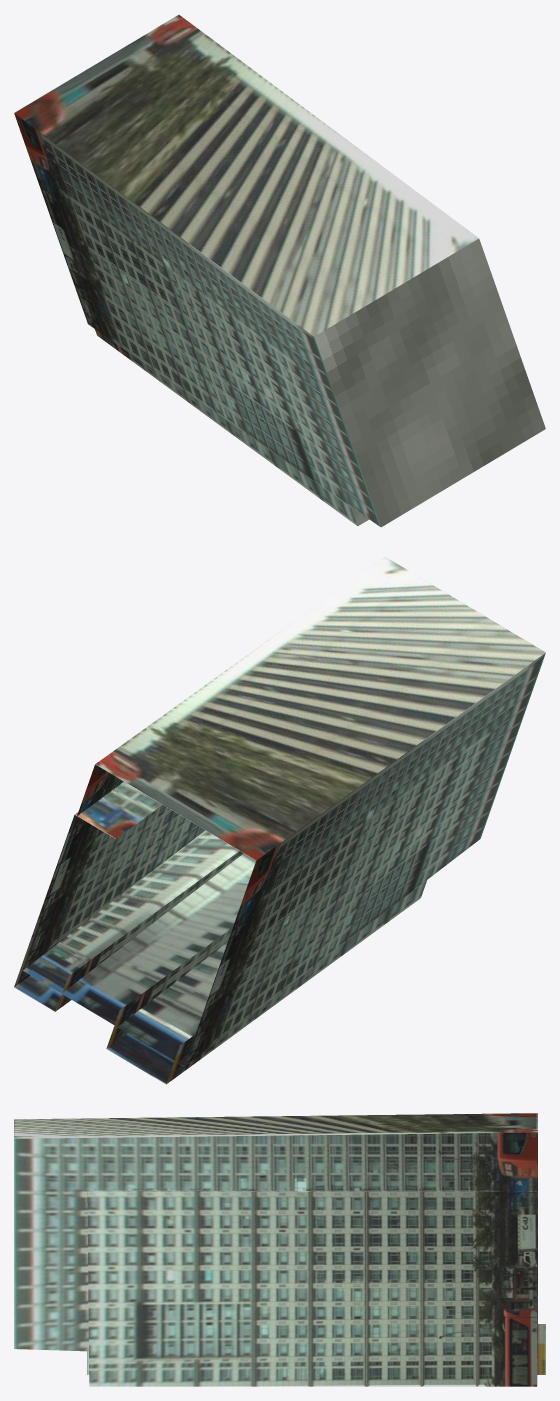
The picture shows the model from 3 angles, top to bottom: view 1: azimuth 30°, elevation 25°; view 2: azimuth 150°, elevation 25°; view 3: azimuth 270°, elevation 25°; orthographic projection. The views are drawn at different scales.
Parts seen in each view (by area): view 1: IndexedFaceSet__7_0, IndexedFaceSet__3_0, IndexedFaceSet__4_0, IndexedFaceSet__12_0; view 2: IndexedFaceSet__7_0, IndexedFaceSet__3_0, IndexedFaceSet__5_0, IndexedFaceSet__1_0, IndexedFaceSet__12_0, IndexedFaceSet__10_0, IndexedFaceSet__6_0, IndexedFaceSet__11_0, IndexedFaceSet__2_0, IndexedFaceSet__9_0, IndexedFaceSet; view 3: IndexedFaceSet, IndexedFaceSet__1_0, IndexedFaceSet__7_0, IndexedFaceSet__10_0, IndexedFaceSet__11_0.
Part boxes in pixels (box(x1,y1,x2,y2)): IndexedFaceSet__7_0: box(14, 14, 478, 336); IndexedFaceSet__3_0: box(14, 113, 380, 526); IndexedFaceSet__4_0: box(314, 238, 545, 527); IndexedFaceSet__12_0: box(95, 329, 357, 525); IndexedFaceSet__7_0: box(95, 556, 545, 860); IndexedFaceSet__3_0: box(184, 653, 545, 1066); IndexedFaceSet__5_0: box(23, 830, 255, 1066); IndexedFaceSet__1_0: box(23, 764, 204, 969); IndexedFaceSet__12_0: box(166, 880, 426, 1084); IndexedFaceSet__10_0: box(74, 782, 162, 838); IndexedFaceSet__6_0: box(55, 851, 243, 1011); IndexedFaceSet__11_0: box(106, 927, 232, 1048); IndexedFaceSet__2_0: box(106, 1033, 174, 1084); IndexedFaceSet__9_0: box(14, 975, 61, 1011); IndexedFaceSet: box(14, 815, 76, 986); IndexedFaceSet: box(87, 1191, 537, 1386); IndexedFaceSet__1_0: box(14, 1132, 537, 1365); IndexedFaceSet__7_0: box(14, 1113, 537, 1138); IndexedFaceSet__10_0: box(87, 1190, 536, 1191); IndexedFaceSet__11_0: box(87, 1331, 545, 1374).
Size of the model in its own units: 49.84 by 58.62 by 105.
Materials: 11 (11 with a texture image).
